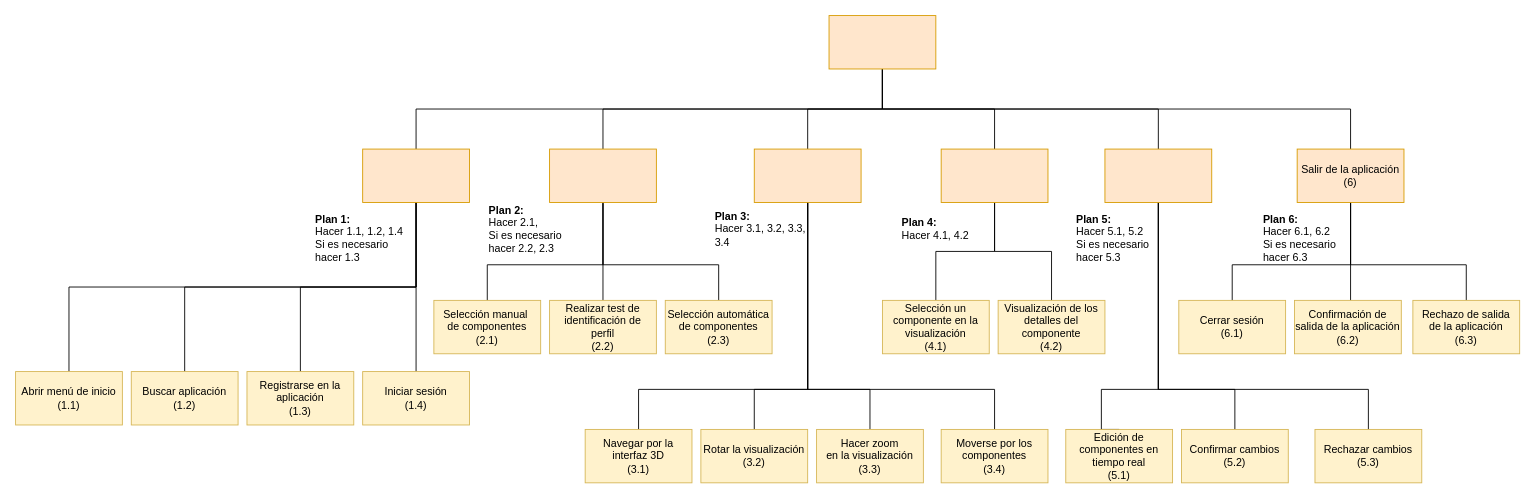
Some shapes in this 1535 by 498 pixel diagram are drawn without their labels. Here are the shapes that lost their labels. From the top down, the centre of each, then its label:
At point (882, 42): "Visualización de componentes en 3D (0)".
At point (415, 175): "Iniciar la aplicación (1)".
At point (602, 175): "Selección de componentes (2)".
At point (807, 175): "Explorar la configuración 3D (3)".
At point (994, 175): "Visualizar componentes individuales (4)".
At point (1158, 175): "Interactuar con la configuración en tiempo real (5)".
